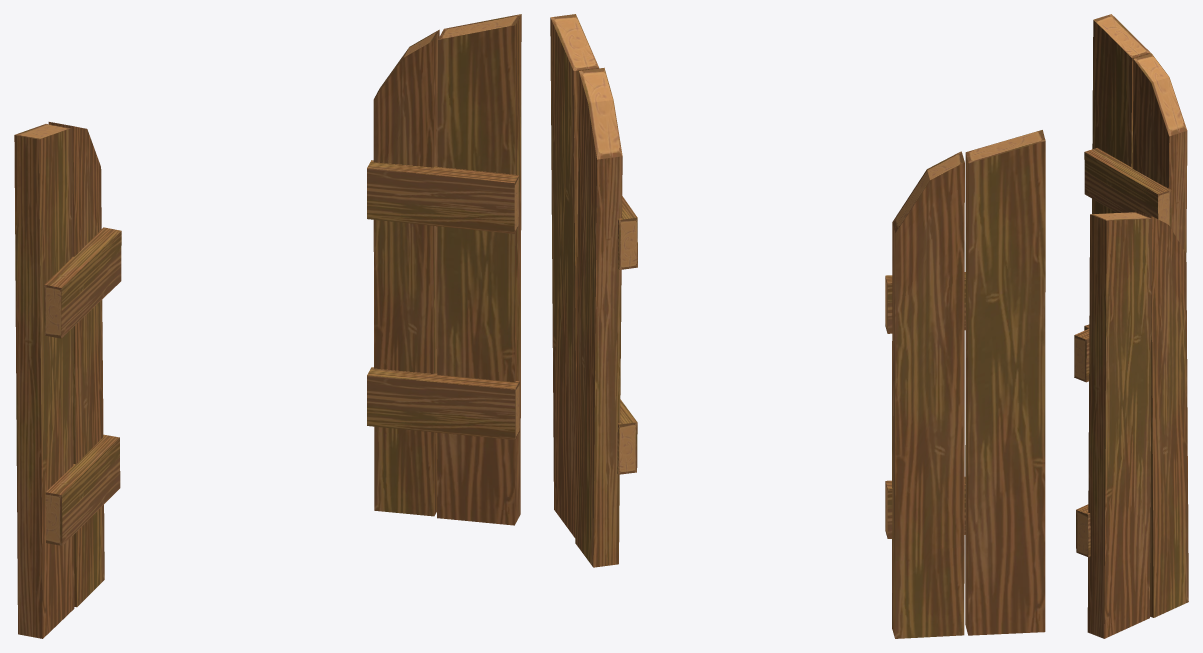
File: WindowShutters_Thin_Round_Open.glb
3 renders of one model, left to right at view 1: azimuth 30°, elevation 25°; view 2: azimuth 150°, elevation 25°; view 3: azimuth 270°, elevation 25°, orthographic. The views are drawn at different scales.
Parts seen in each view (by area): view 1: WindowShutters_Thin_Round_Open; view 2: WindowShutters_Thin_Round_Open; view 3: WindowShutters_Thin_Round_Open.
Part boxes in pixels (left/top/right/bottom): WindowShutters_Thin_Round_Open: left=14, top=14, right=521, bottom=638; WindowShutters_Thin_Round_Open: left=550, top=14, right=1045, bottom=638; WindowShutters_Thin_Round_Open: left=1074, top=14, right=1188, bottom=638.
Bounding box in the file's own units: 1.61 × 1.52 × 0.3765.
Materials: 1 (1 with a texture image).
